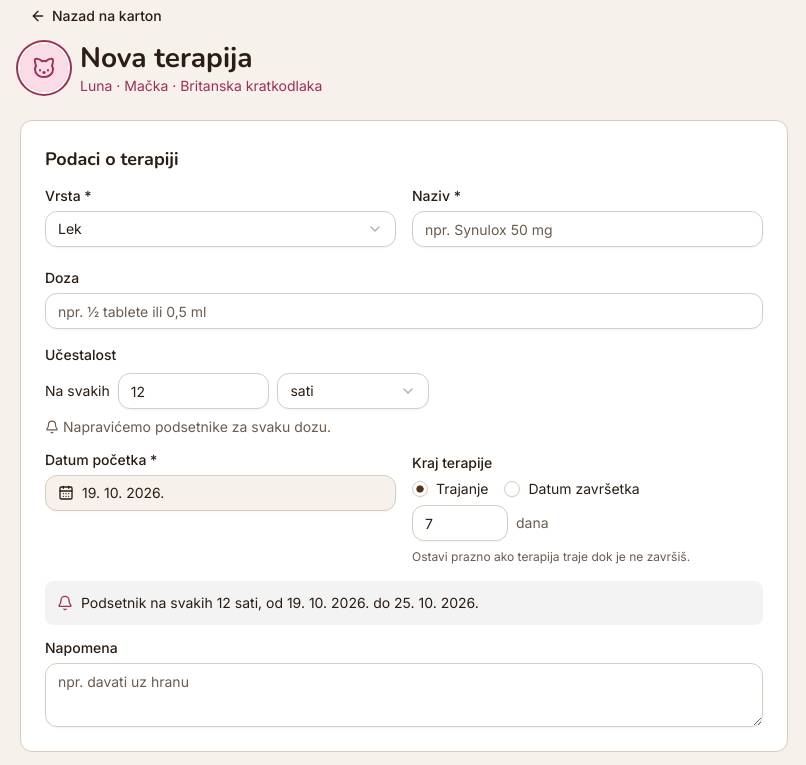
Test case: S27 — new treatment › validates inline and sends nothing: name, frequency 0, duration 0
Type "0" into the field labelled "Na svakih" at {"x": 194, "y": 391}, box [118,373,269,409]
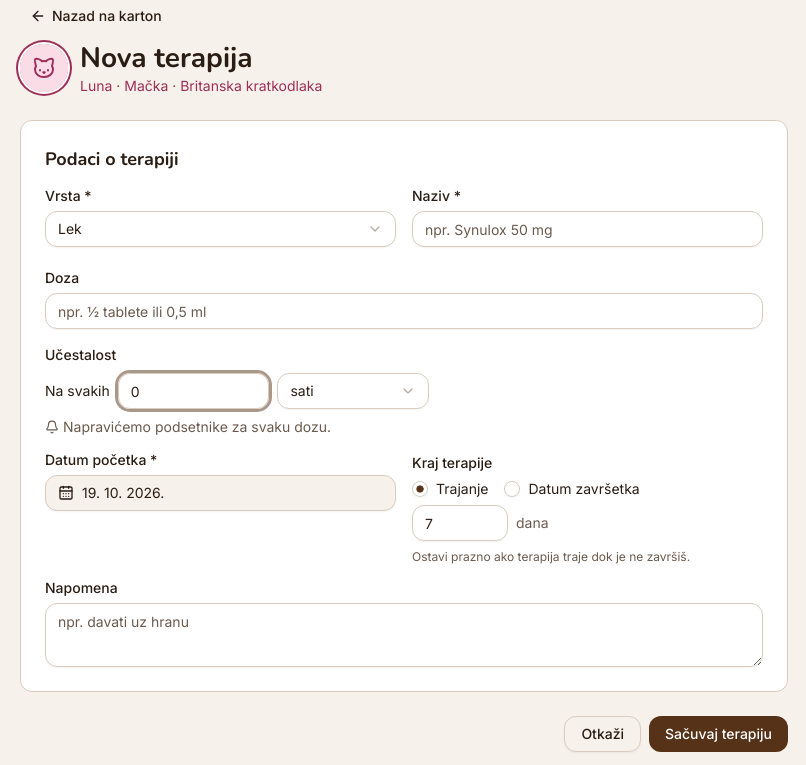
Type "0" into the field named "Trajanje u danima" at {"x": 460, "y": 523}, box [412,505,508,541]
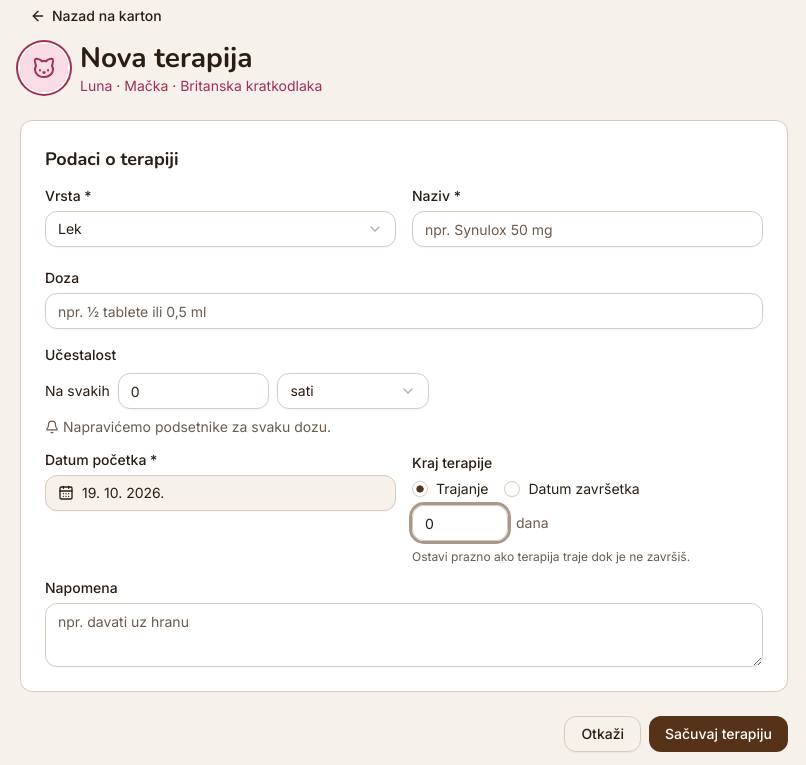
Click the button "Sačuvaj terapiju" at {"x": 718, "y": 734}, box [649,716,788,752]
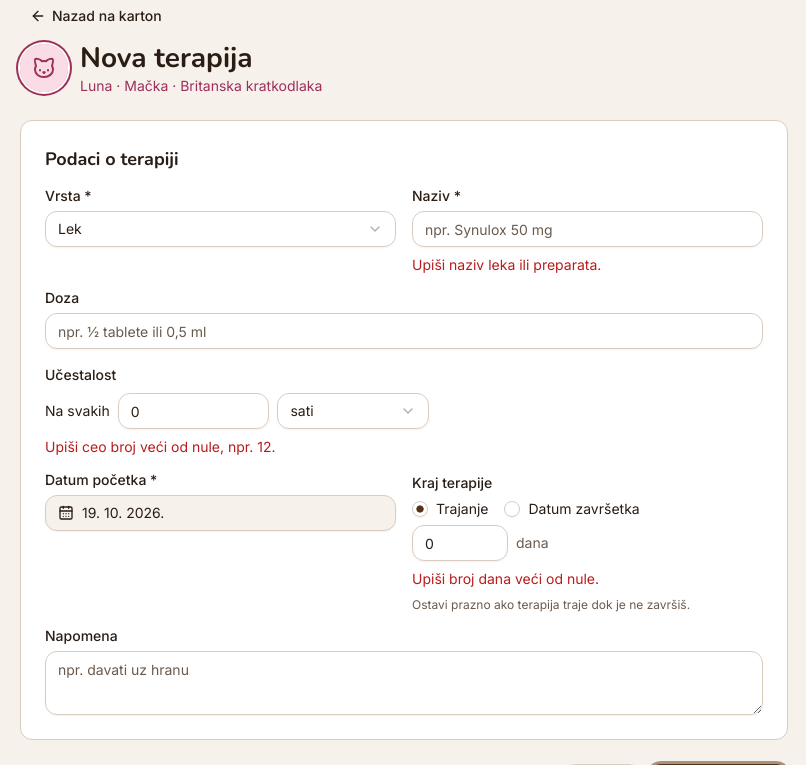
Expected: the text "Upiši naziv leka ili preparata." is shown, [412,256,601,273]
Expected: the text "Upiši ceo broj veći od nule, npr. 12." is shown, [45,438,276,455]
Expected: the text "Upiši broj dana veći od nule." is shown, [412,570,599,587]
